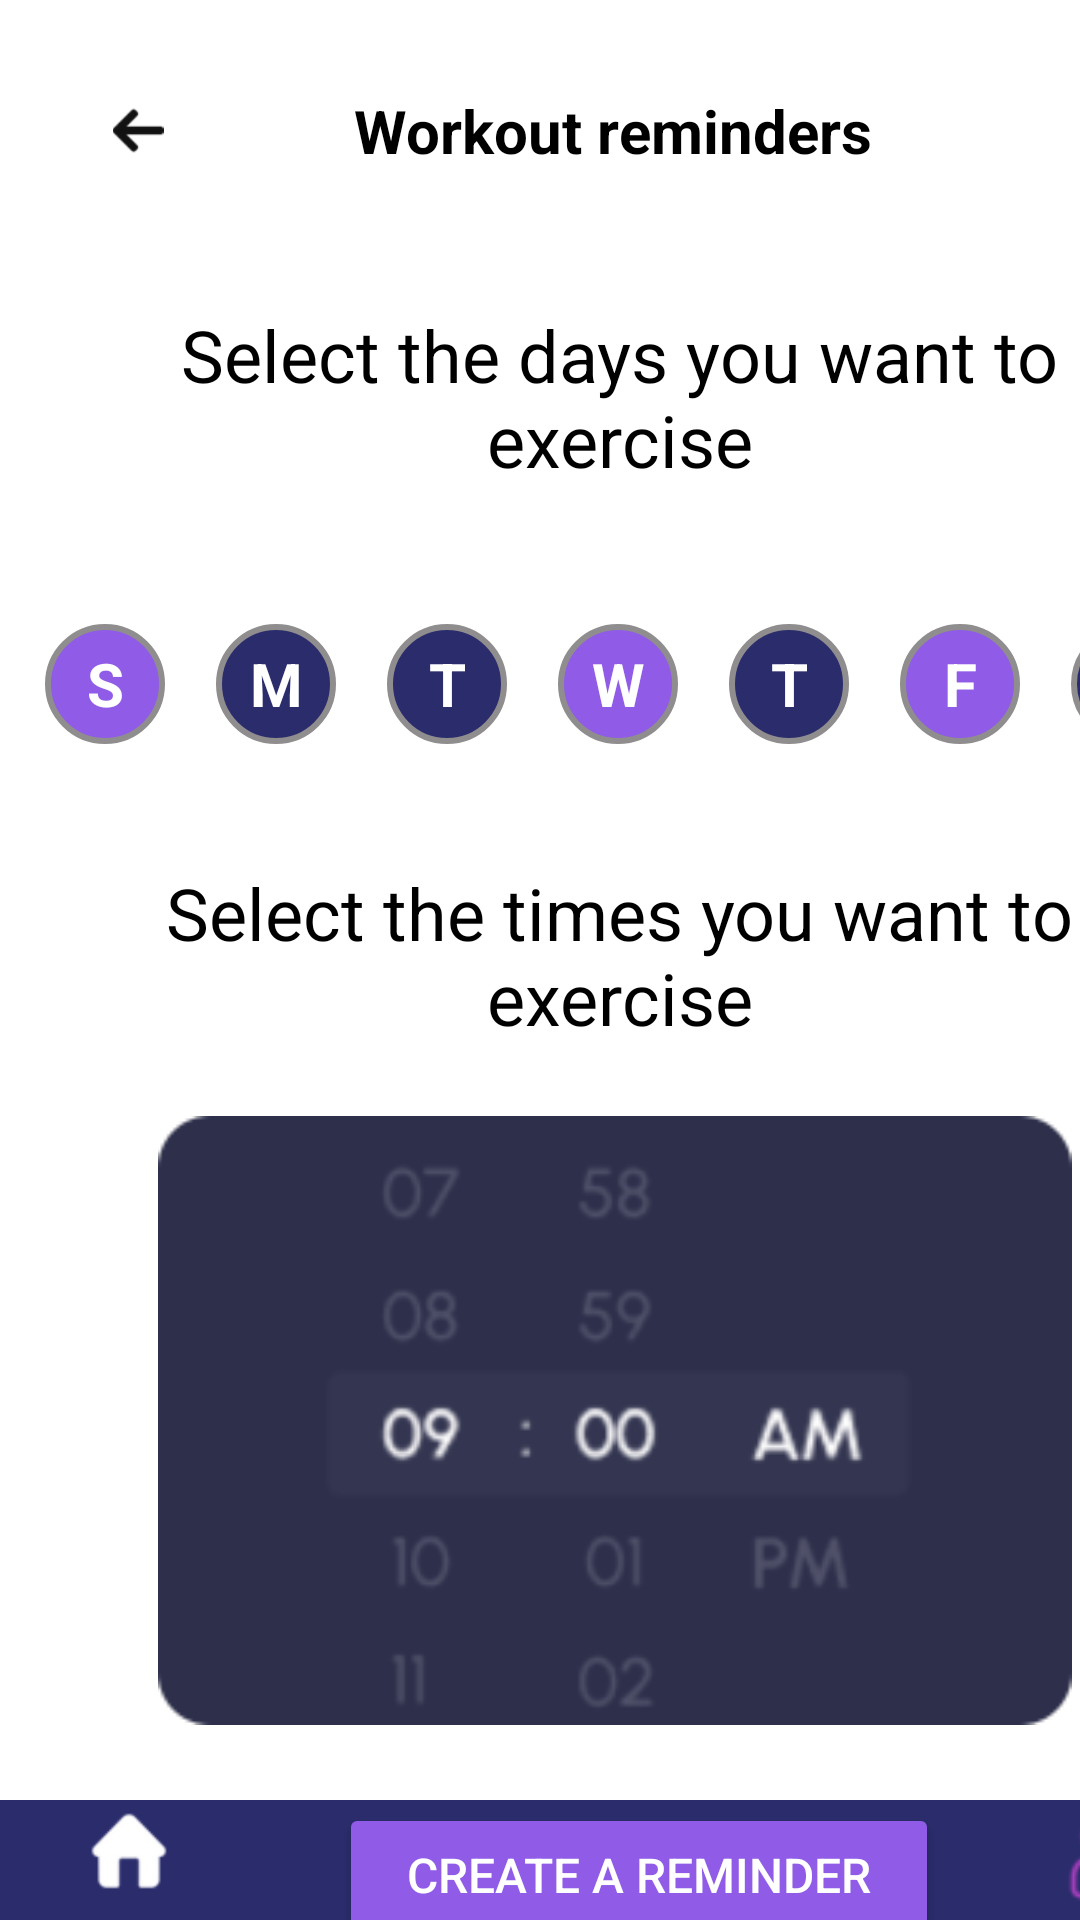

Named icons in this screenshot (1080px×1920px) and their centers, (x=x, y=y):
home: (x=129, y=1851)
left arrow: (x=138, y=130)
